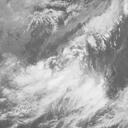cyclone: (23, 60, 99, 119)
